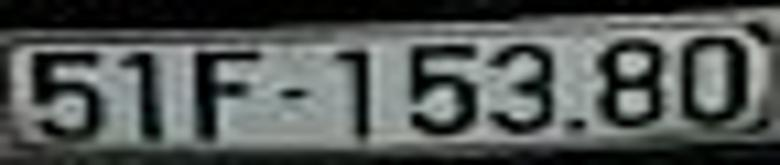-: (280, 88, 305, 100)
.: (570, 118, 583, 130)
0: (683, 34, 746, 122)
1: (126, 52, 164, 140), (340, 51, 376, 139)
3: (489, 44, 553, 134)
5: (31, 49, 101, 138), (408, 45, 477, 134)
8: (599, 37, 661, 128)
F: (195, 48, 260, 141)
